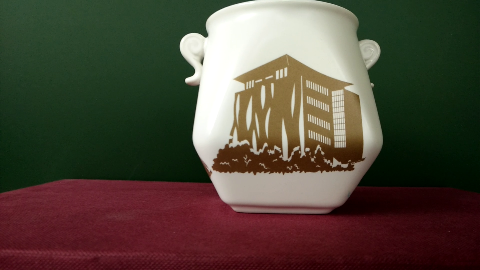library: (227, 66, 353, 167)
